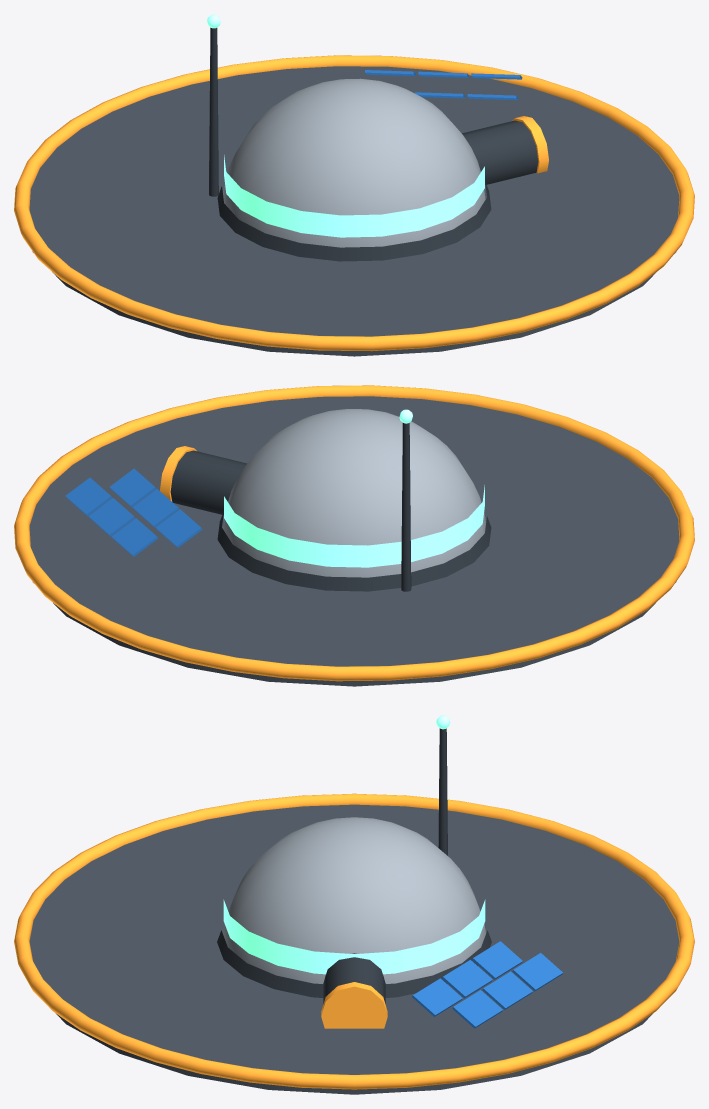
Rendered from outpost-base.glb.
3 renders of one model, top to bottom at view 1: azimuth 30°, elevation 25°; view 2: azimuth 150°, elevation 25°; view 3: azimuth 270°, elevation 25°, orthographic.
Visible parts, largest first — view 1: outpost; view 2: outpost; view 3: outpost.
Boxes of the visible parts, x1,y1,x2,y2 form: outpost: (14, 14, 694, 356); outpost: (14, 385, 694, 686); outpost: (14, 715, 694, 1094).
Size of the model in its own units: 30.7 by 10.26 by 30.7.
